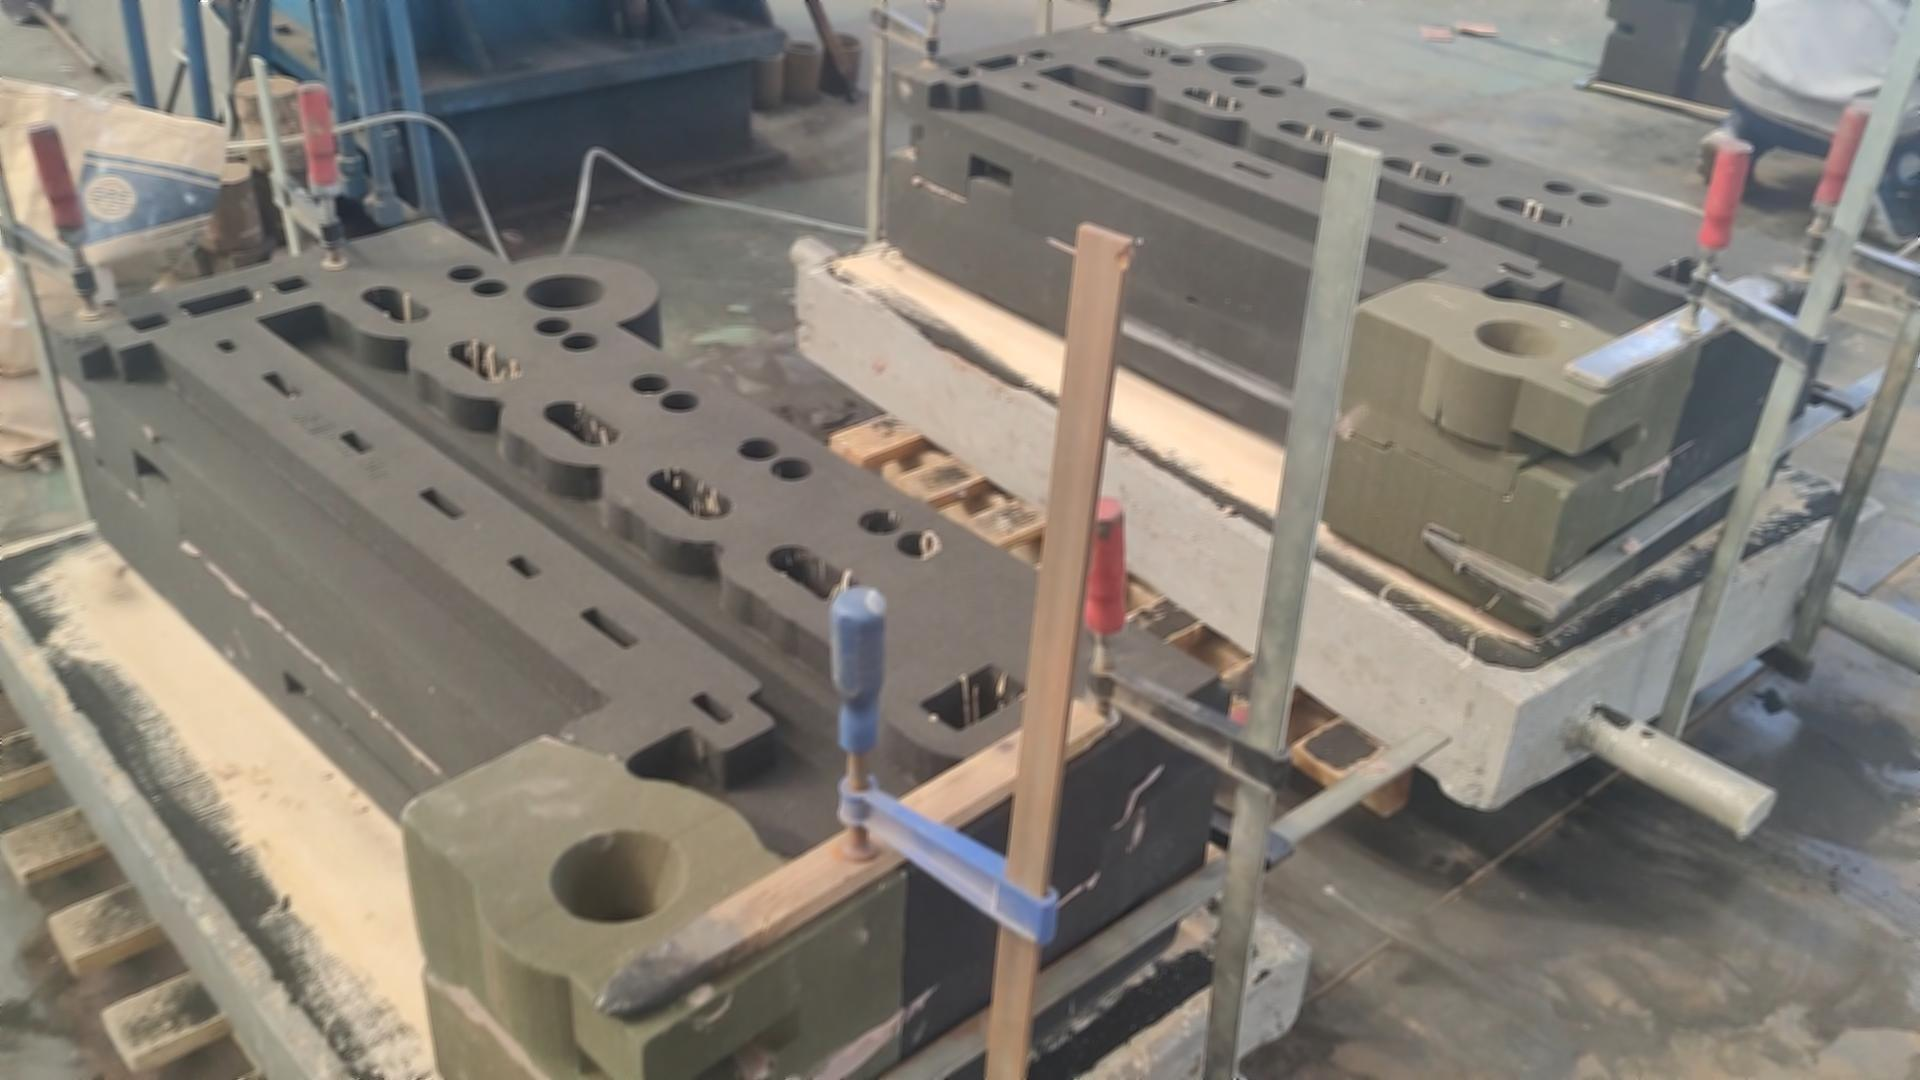pouring hole: (550, 829, 684, 924), (1476, 320, 1563, 357), (524, 276, 607, 310), (1207, 53, 1265, 71), (825, 30, 862, 47), (748, 47, 785, 61), (789, 41, 823, 53), (753, 32, 785, 42)
